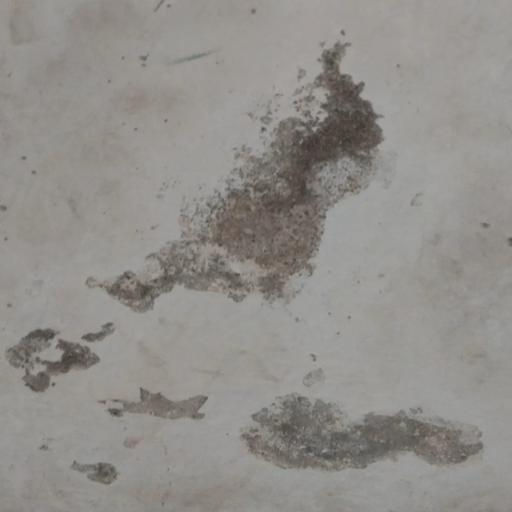peeling: (3, 25, 496, 503)
